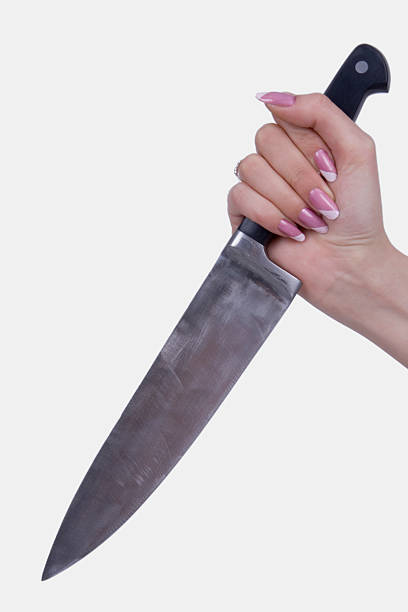knife: (42, 41, 392, 579)
